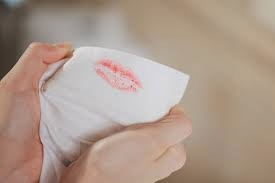lipstick: (91, 57, 144, 100)
